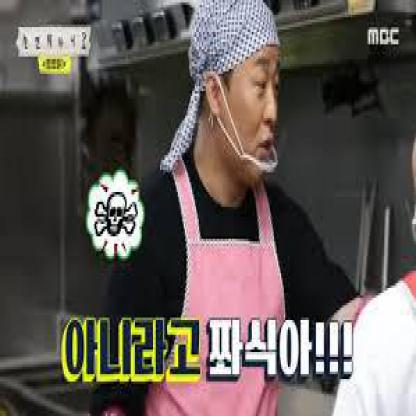skull: (94, 188, 138, 237)
